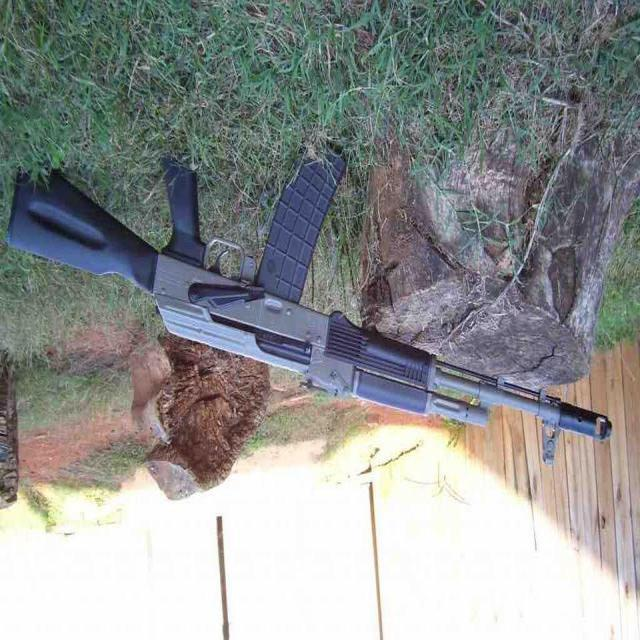weapon: (6, 134, 612, 465)
